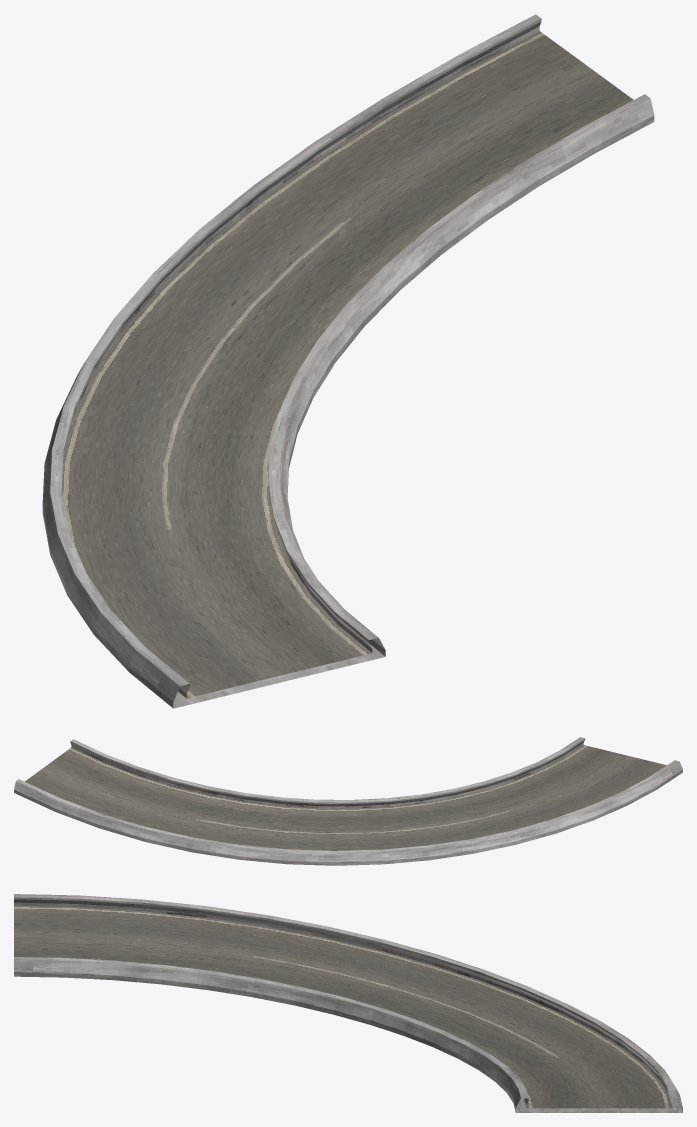
File: turn-right4x4.glb
3 renders of one model, top to bottom at view 1: azimuth 30°, elevation 25°; view 2: azimuth 150°, elevation 25°; view 3: azimuth 270°, elevation 25°, orthographic. The views are drawn at different scales.
Visible parts, largest first — view 1: road-Turn-Flat-BiSlopeUp-Up2-Right-Size4; view 2: road-Turn-Flat-BiSlopeUp-Up2-Right-Size4; view 3: road-Turn-Flat-BiSlopeUp-Up2-Right-Size4.
Boxes of the visible parts, x1,y1,x2,y2 form: road-Turn-Flat-BiSlopeUp-Up2-Right-Size4: (42,14,654,708); road-Turn-Flat-BiSlopeUp-Up2-Right-Size4: (14,737,682,865); road-Turn-Flat-BiSlopeUp-Up2-Right-Size4: (14,894,682,1112).
Bounding box in the file's own units: 4 × 0.595 × 4.
2 materials, 2 textured.
